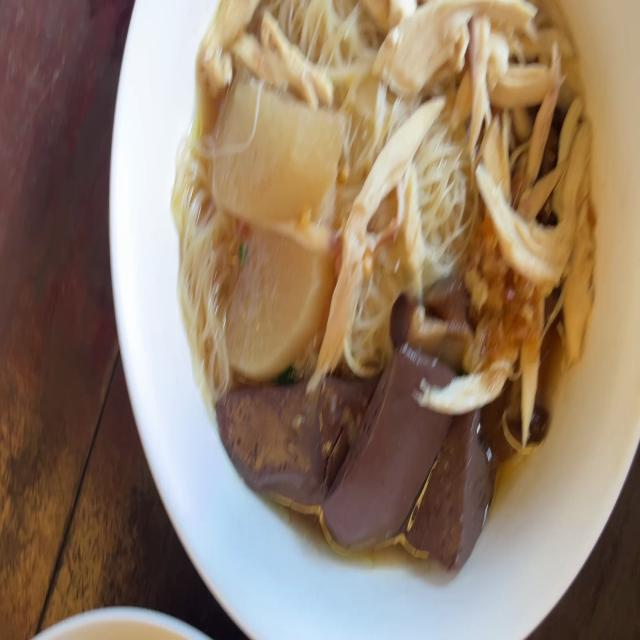noodle: (164, 0, 608, 579)
